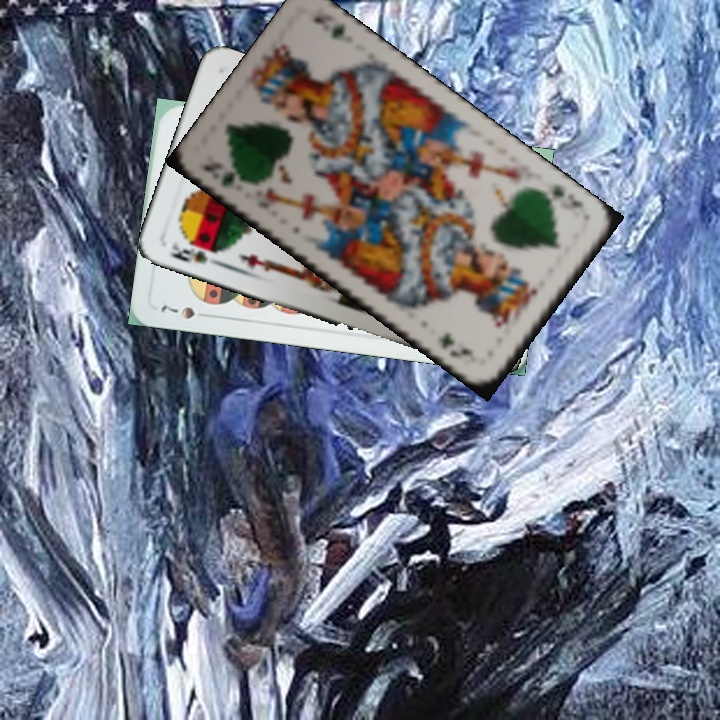GK: (537, 178, 590, 215), (199, 158, 252, 191)
S7: (156, 301, 198, 322)
SK: (164, 237, 220, 267)
